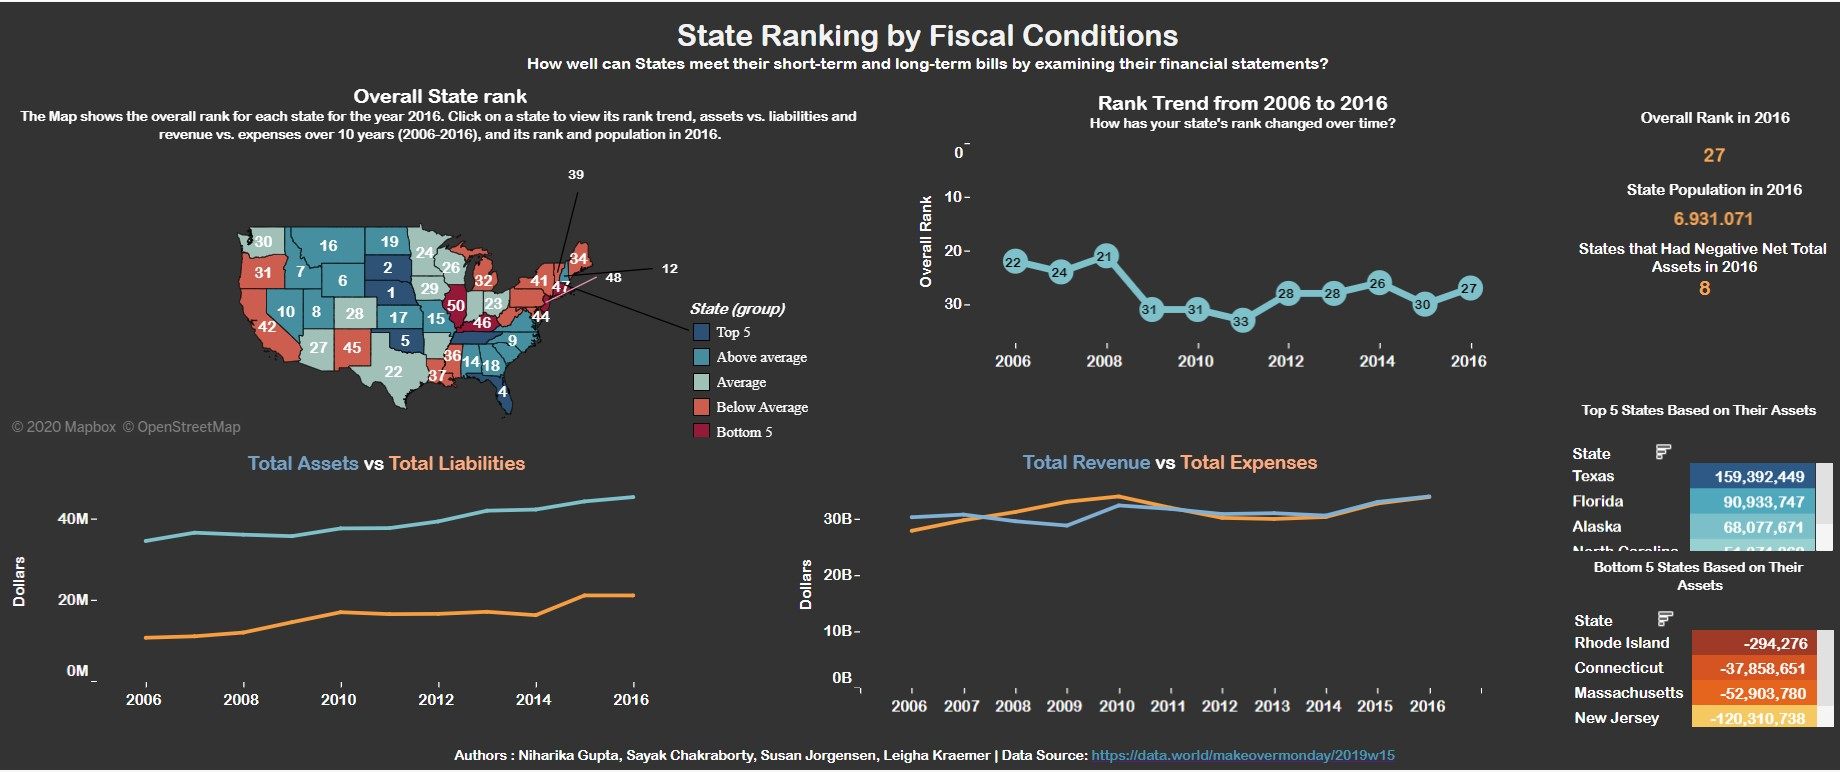

Layout of this report page (visuals, bound fields, positions):
{"tool":"tableau","page":{"name":"Fiscal Conditions of USA","canvas":[1000,1000],"units":"permille","ordinal":0},"visuals":[{"type":"title","box":[4.8,9.2,990.3,72.2]},{"type":"worksheet","title":"USA Map","mark":"Multipolygon","box":[4.2,96.2,466.5,470.8]},{"type":"worksheet","title":"Rank Trend","mark":"Automatic","rows":["overallrank","overallrank"],"cols":["Year"],"box":[488.8,105.4,362.1,386]},{"type":"worksheet","title":"Overall Rank","mark":"Automatic","box":[855.2,128.3,137.6,91.6]},{"type":"worksheet","title":"Population","mark":"Automatic","box":[852.8,223.4,141.8,66.4]},{"type":"text","box":[845.5,292.7,146.1,109.2]},{"type":"legend","title":"USA Map","param":"[federated.1q7adaw0h9t5gs15ptg68046o5zl].[State (group)]","box":[371.8,387.2,99,178.7]},{"type":"worksheet","title":"Top 5 states in terms of Net total assests in 2016","mark":"Square","rows":["State"],"box":[843.1,497.1,151.5,216.5]},{"type":"worksheet","title":"Revenue vs Expense","mark":"Automatic","rows":["Total Expenses","Total Revenue"],"cols":["Year"],"box":[424.3,573.9,412.8,365.4]},{"type":"worksheet","title":"Assets vs Liablities","mark":"Automatic","rows":["Total Liabilities","Total Assets"],"cols":["Year"],"box":[0.6,575,418.8,357.4]},{"type":"text","box":[56,582.5,100,37.5]},{"type":"worksheet","title":"Bottom 5 states in terms of Net total assests in 2016","mark":"Square","rows":["State"],"box":[843.7,714.3,147.9,228.8]}]}

Visuals, with their boxes on the dashboard's canvas, which has no fixed pixel size, in thousandths of its width and height (x1, y1, x2, y2). These are canvas units, not pixel positions in the 1840x772 screenshot, which may show the page scaled, cropped or inside an application window:
title: 5:9:995:81
"USA Map" worksheet (Multipolygon marks): 4:96:471:567
"Rank Trend" worksheet: 489:105:851:491
"Overall Rank" worksheet: 855:128:993:220
"Population" worksheet: 853:223:995:290
text: 846:293:992:402
"USA Map" legend: 372:387:471:566
"Top 5 states in terms of Net total assests in 2016" worksheet (Square marks): 843:497:995:714
"Revenue vs Expense" worksheet: 424:574:837:939
"Assets vs Liablities" worksheet: 1:575:419:932
text: 56:582:156:620
"Bottom 5 states in terms of Net total assests in 2016" worksheet (Square marks): 844:714:992:943
